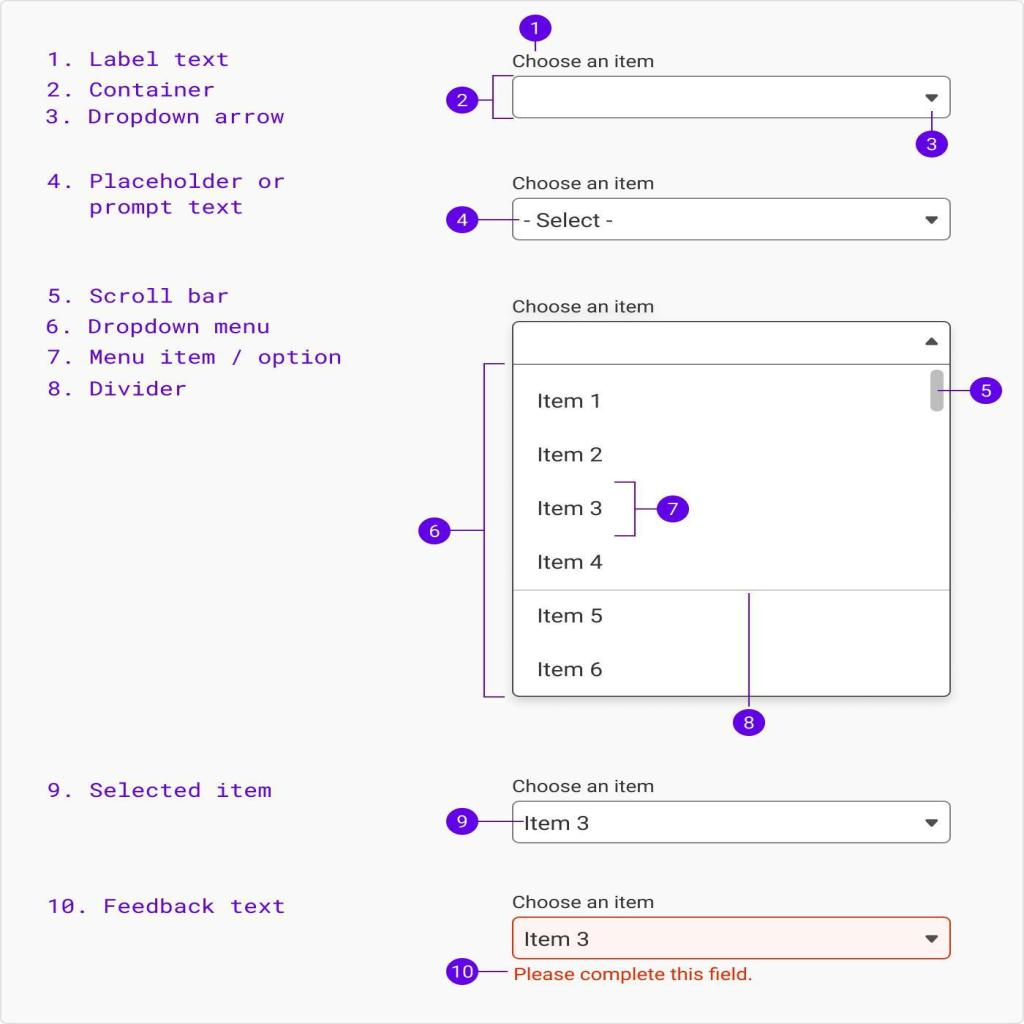dropdown: (513, 321, 948, 365), (512, 75, 950, 118), (514, 198, 949, 240), (513, 801, 951, 842), (513, 918, 951, 958)
label: (510, 891, 660, 914), (507, 774, 661, 796), (510, 49, 657, 71), (507, 296, 661, 316), (511, 173, 660, 192)
